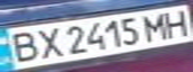1: (103, 17, 124, 48)
2: (63, 21, 87, 56)
4: (84, 19, 109, 52)
5: (118, 15, 145, 46)
B: (3, 29, 42, 64)
H: (157, 7, 193, 38)
M: (139, 10, 175, 42)
X: (30, 25, 66, 60)
